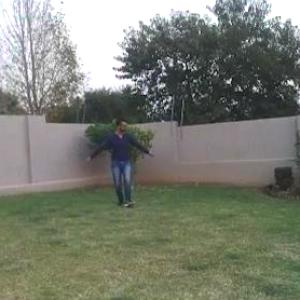land: (74, 93, 156, 222)
